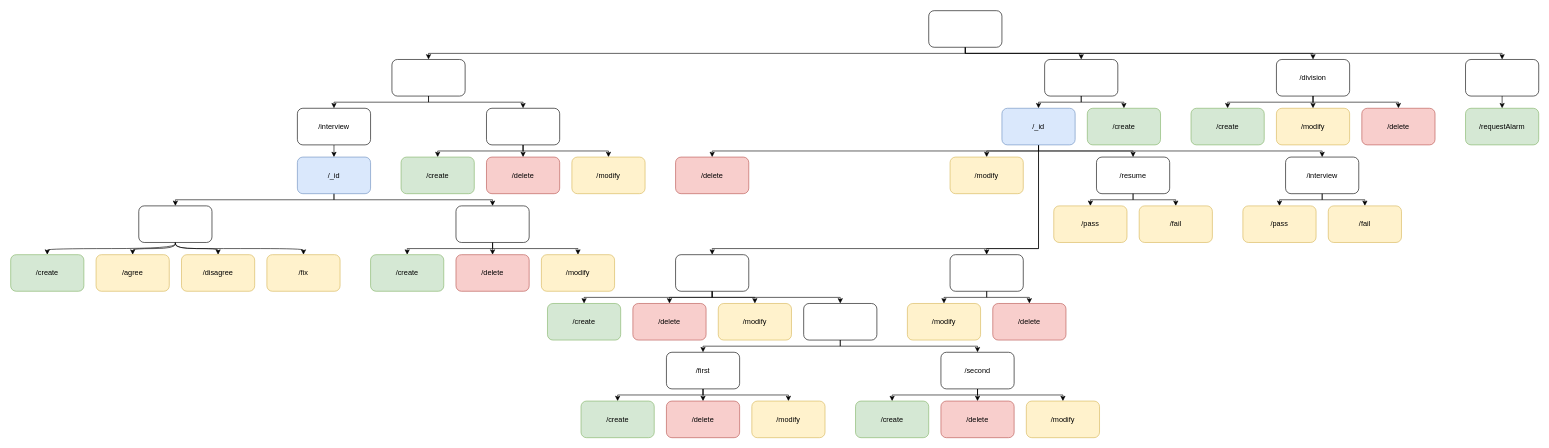
Some shapes in this 1549 by 448 pixel diagram are drawn without their labels. The centre of each missing label's shape, as x and y in pixels:
/alarm: the point at 1502,77
/api: the point at 965,28
/applicant: the point at 1081,77
/comment: the point at 492,223
/date: the point at 175,223
/evaluation: the point at 840,321
/position: the point at 523,126
/process: the point at 428,77
/report: the point at 712,272
/work-start: the point at 986,272
